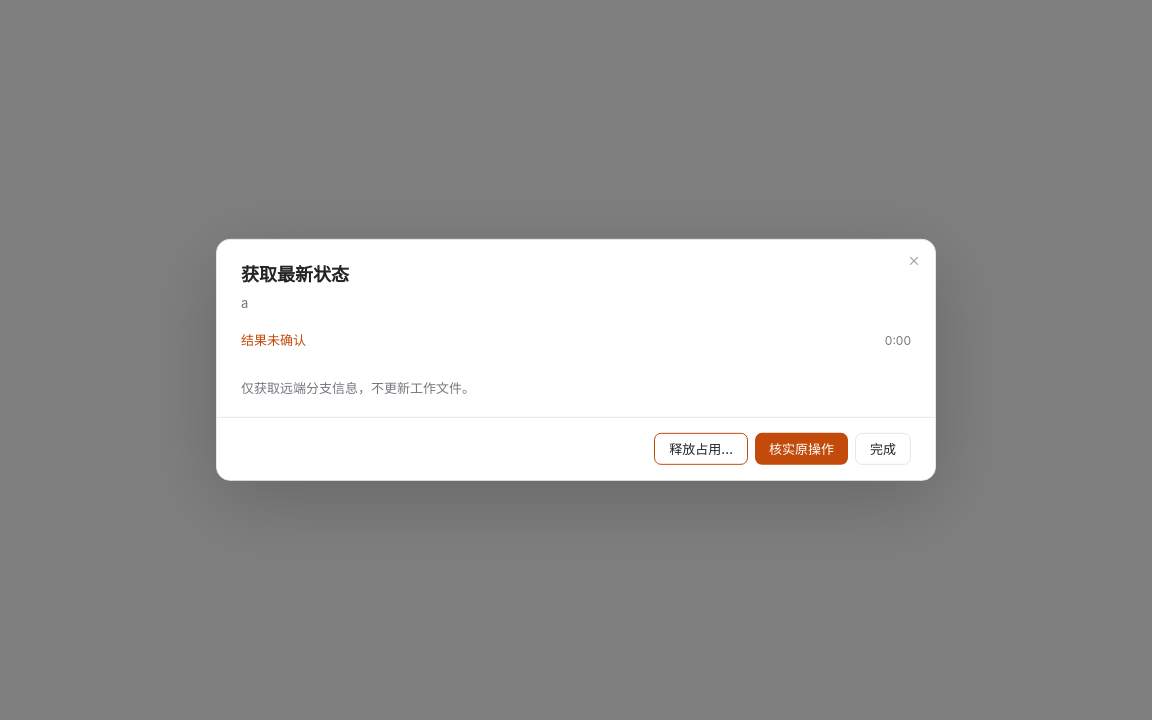
Scenario: reopens an uncertain fetch without replaying it and verifies the original operation
The width and height of the screenshot is (1152, 720).
Step 1. Click the button "核实原操作" → [802, 449], box top-left (755, 433), bottom-right (848, 465)
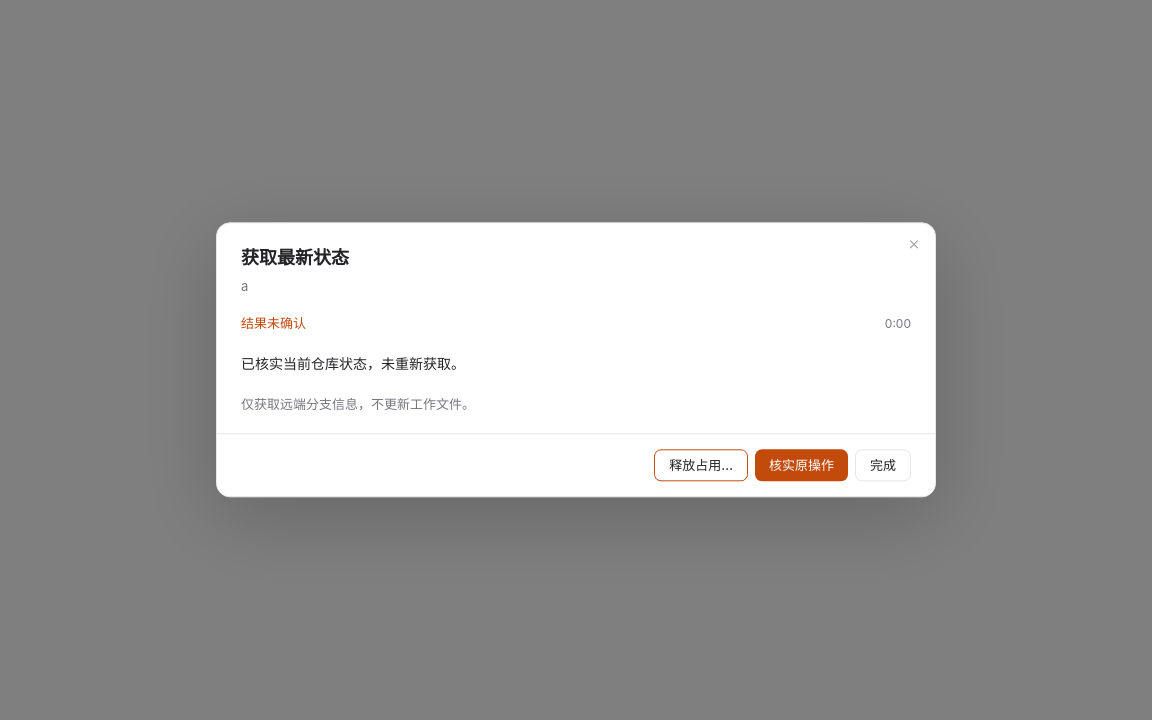
Now the text "已核实当前仓库状态，未重新获取。" is shown, box top-left (241, 356), bottom-right (465, 373)
Step 2. Click the button "释放占用…" → [701, 466], box top-left (654, 450), bottom-right (748, 482)
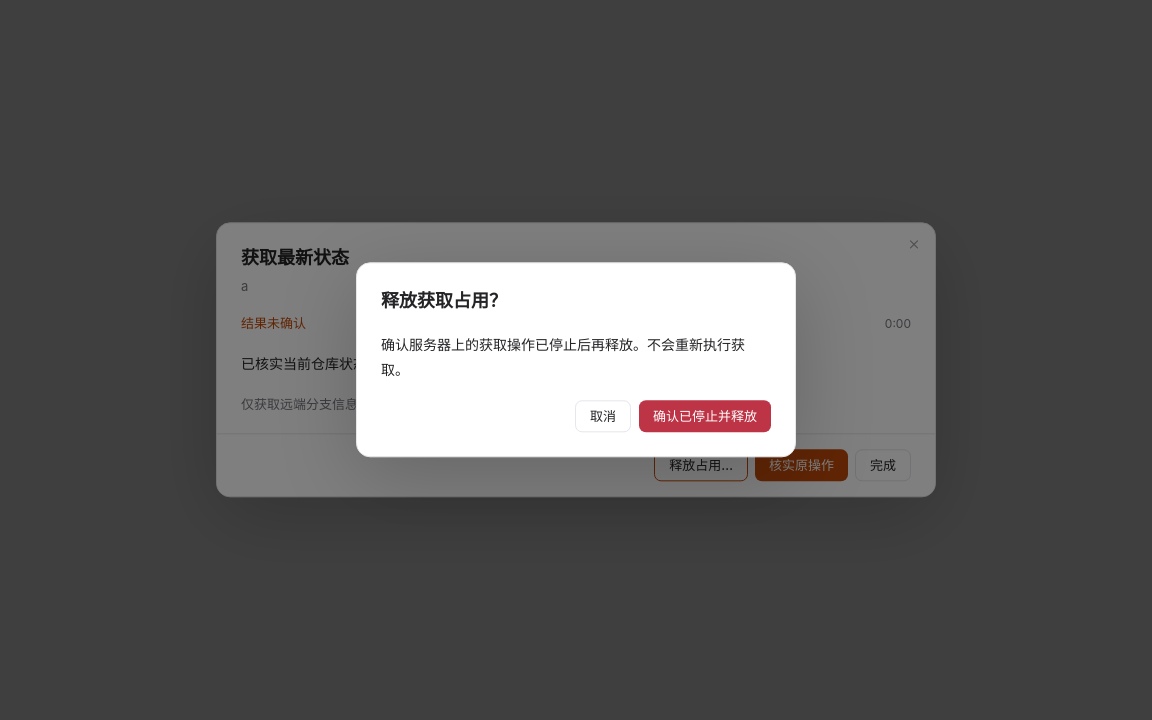
Now the heading "释放获取占用？" is shown, box top-left (381, 290), bottom-right (507, 311)
Step 3. Click the button "确认已停止并释放" → [705, 417], box top-left (639, 401), bottom-right (771, 433)
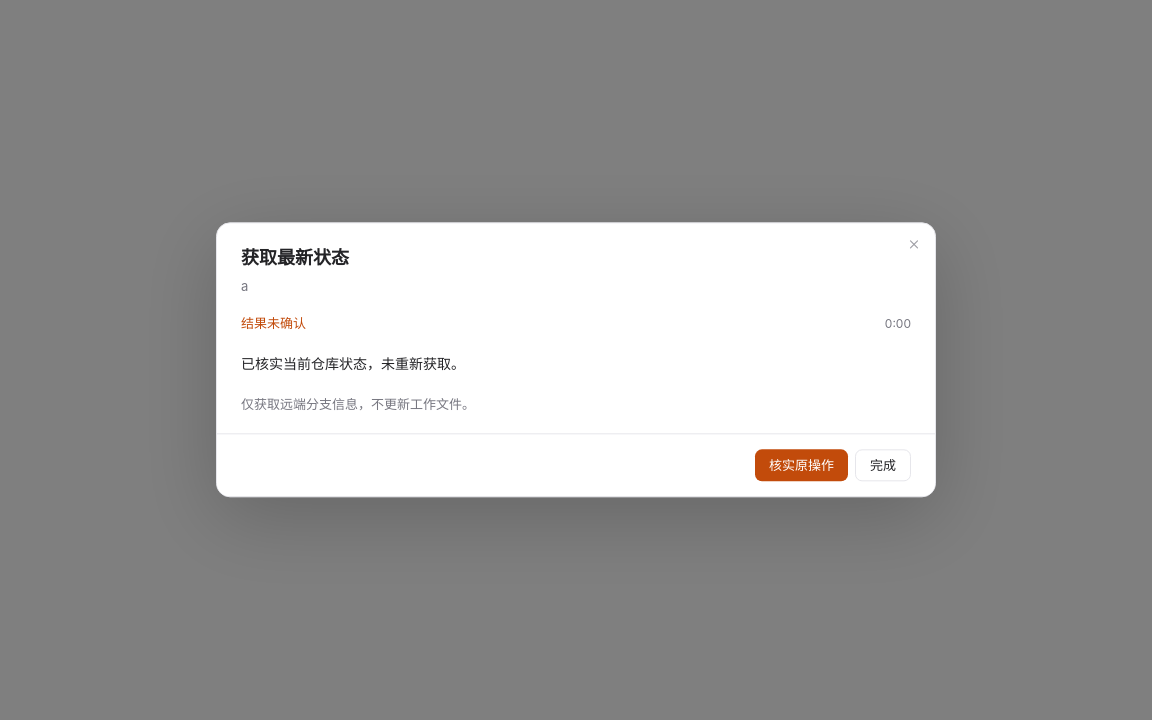
Now the button "释放占用…" is gone
